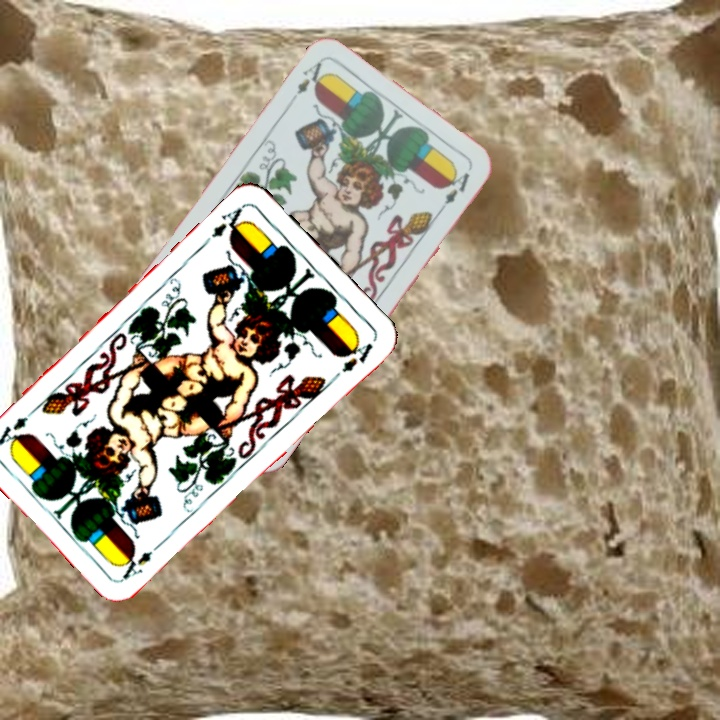EA: (200, 201, 250, 247), (292, 57, 330, 97), (117, 546, 155, 583)
